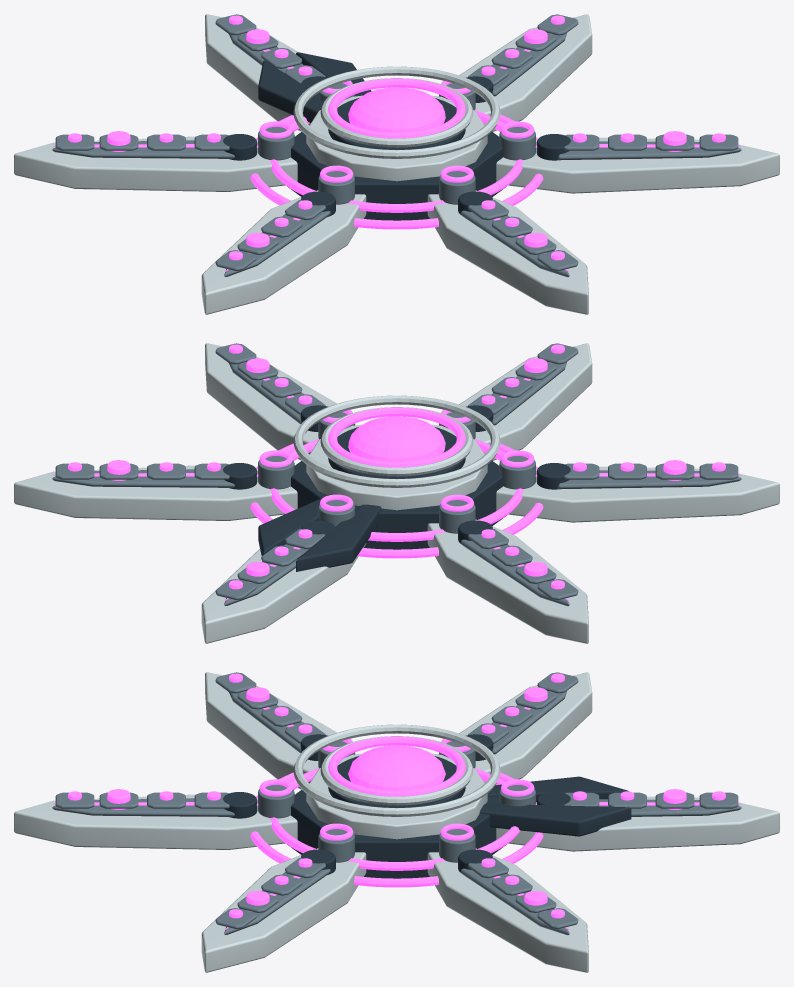
The model's file is Seraph.fbx.
3 renders of one model, top to bottom at view 1: azimuth 30°, elevation 25°; view 2: azimuth 150°, elevation 25°; view 3: azimuth 270°, elevation 25°, orthographic.
Parts seen in each view (by area): view 1: Seraph feather 2.002, Seraph feather 5.002, Seraph feather 3.002, Seraph feather 4.002, Hexagonal core vessel.002, Seraph feather 0.002, Nested containment halo.005, Core armored crown.002, Violet singularity.002, Seraph feather 1.002, Orbital conduit.006, Nested containment halo.004 (+20 smaller); view 2: Seraph feather 0.002, Seraph feather 3.002, Seraph feather 2.002, Seraph feather 1.002, Seraph feather 4.002, Seraph feather 5.002, Nested containment halo.005, Core armored crown.002, Hexagonal core vessel.002, Violet singularity.002, Core forward fang.004, Orbital conduit.006 (+21 smaller); view 3: Seraph feather 4.002, Seraph feather 5.002, Seraph feather 1.002, Seraph feather 0.002, Seraph feather 2.002, Seraph feather 3.002, Nested containment halo.005, Hexagonal core vessel.002, Core armored crown.002, Core forward fang.005, Violet singularity.002, Orbital conduit.006 (+19 smaller).
Part boxes in pixels (bbox=[...]): Seraph feather 2.002: bbox=[14, 136, 297, 191]; Seraph feather 5.002: bbox=[496, 137, 779, 193]; Seraph feather 3.002: bbox=[201, 190, 366, 314]; Seraph feather 4.002: bbox=[427, 190, 588, 314]; Hexagonal core vessel.002: bbox=[287, 132, 506, 220]; Seraph feather 0.002: bbox=[459, 14, 592, 131]; Nested containment halo.005: bbox=[293, 66, 500, 158]; Core armored crown.002: bbox=[306, 95, 487, 181]; Violet singularity.002: bbox=[348, 87, 445, 132]; Seraph feather 1.002: bbox=[205, 14, 310, 131]; Orbital conduit.006: bbox=[328, 78, 465, 138]; Nested containment halo.004: bbox=[320, 78, 473, 147]; Seraph feather 0.002: bbox=[14, 465, 297, 520]; Seraph feather 3.002: bbox=[496, 466, 779, 522]; Seraph feather 2.002: bbox=[427, 519, 588, 643]; Seraph feather 1.002: bbox=[201, 543, 366, 643]; Seraph feather 4.002: bbox=[459, 343, 592, 460]; Seraph feather 5.002: bbox=[205, 343, 355, 460]; Nested containment halo.005: bbox=[293, 395, 500, 487]; Core armored crown.002: bbox=[306, 424, 487, 510]; Hexagonal core vessel.002: bbox=[291, 461, 506, 549]; Violet singularity.002: bbox=[348, 416, 445, 461]; Core forward fang.004: bbox=[296, 504, 381, 571]; Orbital conduit.006: bbox=[328, 407, 465, 467]; Seraph feather 4.002: bbox=[14, 794, 297, 849]; Seraph feather 5.002: bbox=[201, 848, 366, 972]; Seraph feather 1.002: bbox=[496, 796, 779, 851]; Seraph feather 0.002: bbox=[427, 848, 588, 972]; Seraph feather 2.002: bbox=[459, 672, 592, 783]; Seraph feather 3.002: bbox=[205, 672, 355, 789]; Nested containment halo.005: bbox=[293, 724, 500, 816]; Hexagonal core vessel.002: bbox=[287, 790, 506, 878]; Core armored crown.002: bbox=[306, 753, 487, 839]; Core forward fang.005: bbox=[479, 803, 631, 836]; Violet singularity.002: bbox=[348, 745, 445, 790]; Orbital conduit.006: bbox=[328, 736, 465, 796].
Bounding box in the file's own units: 907 × 137 × 1047.
